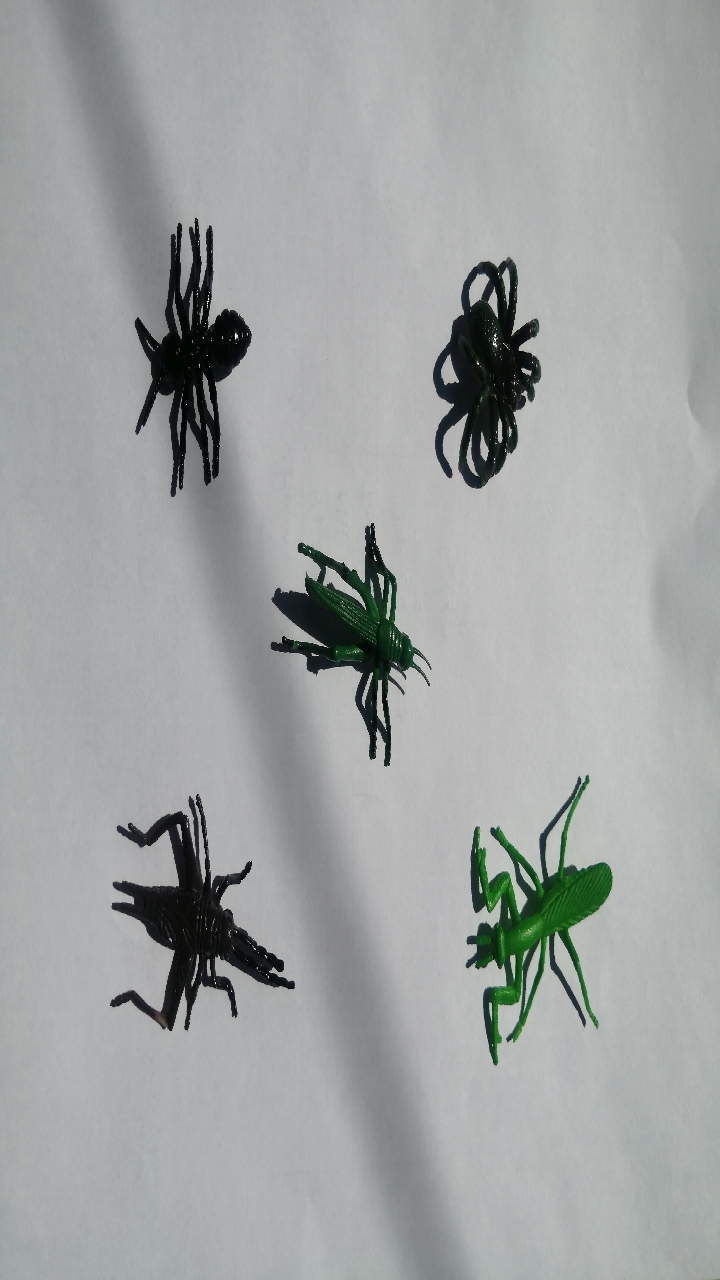intruso: (66, 786, 309, 1043), (438, 757, 635, 1068), (66, 202, 261, 509), (231, 517, 446, 766), (398, 235, 592, 508)
